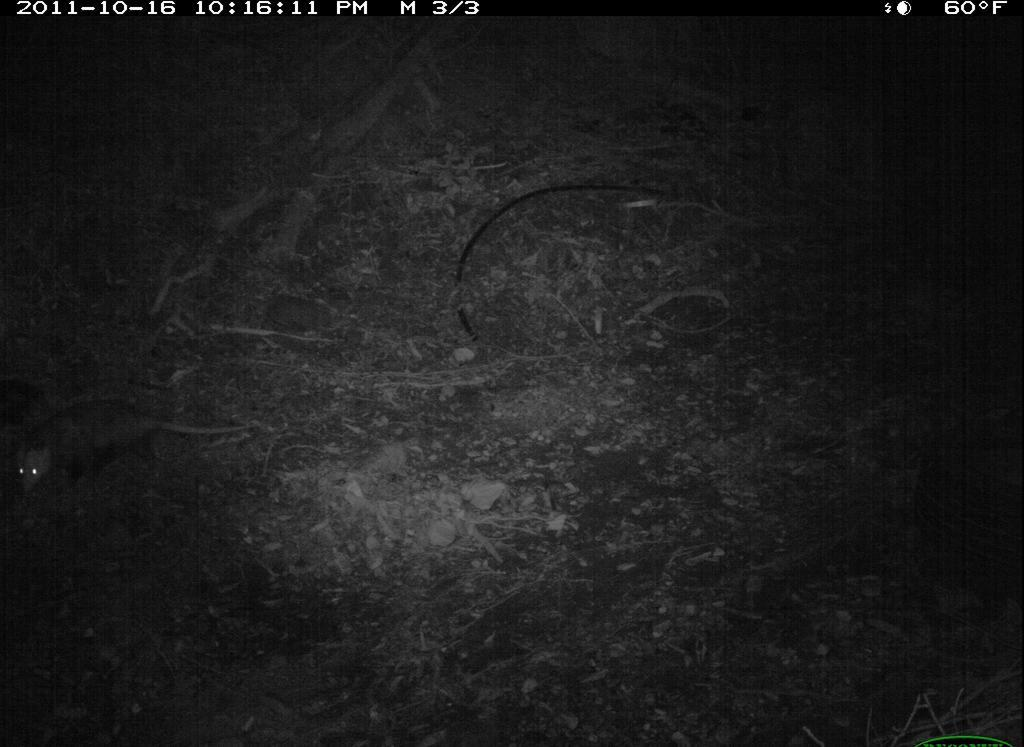opossum: (9, 387, 267, 504)
